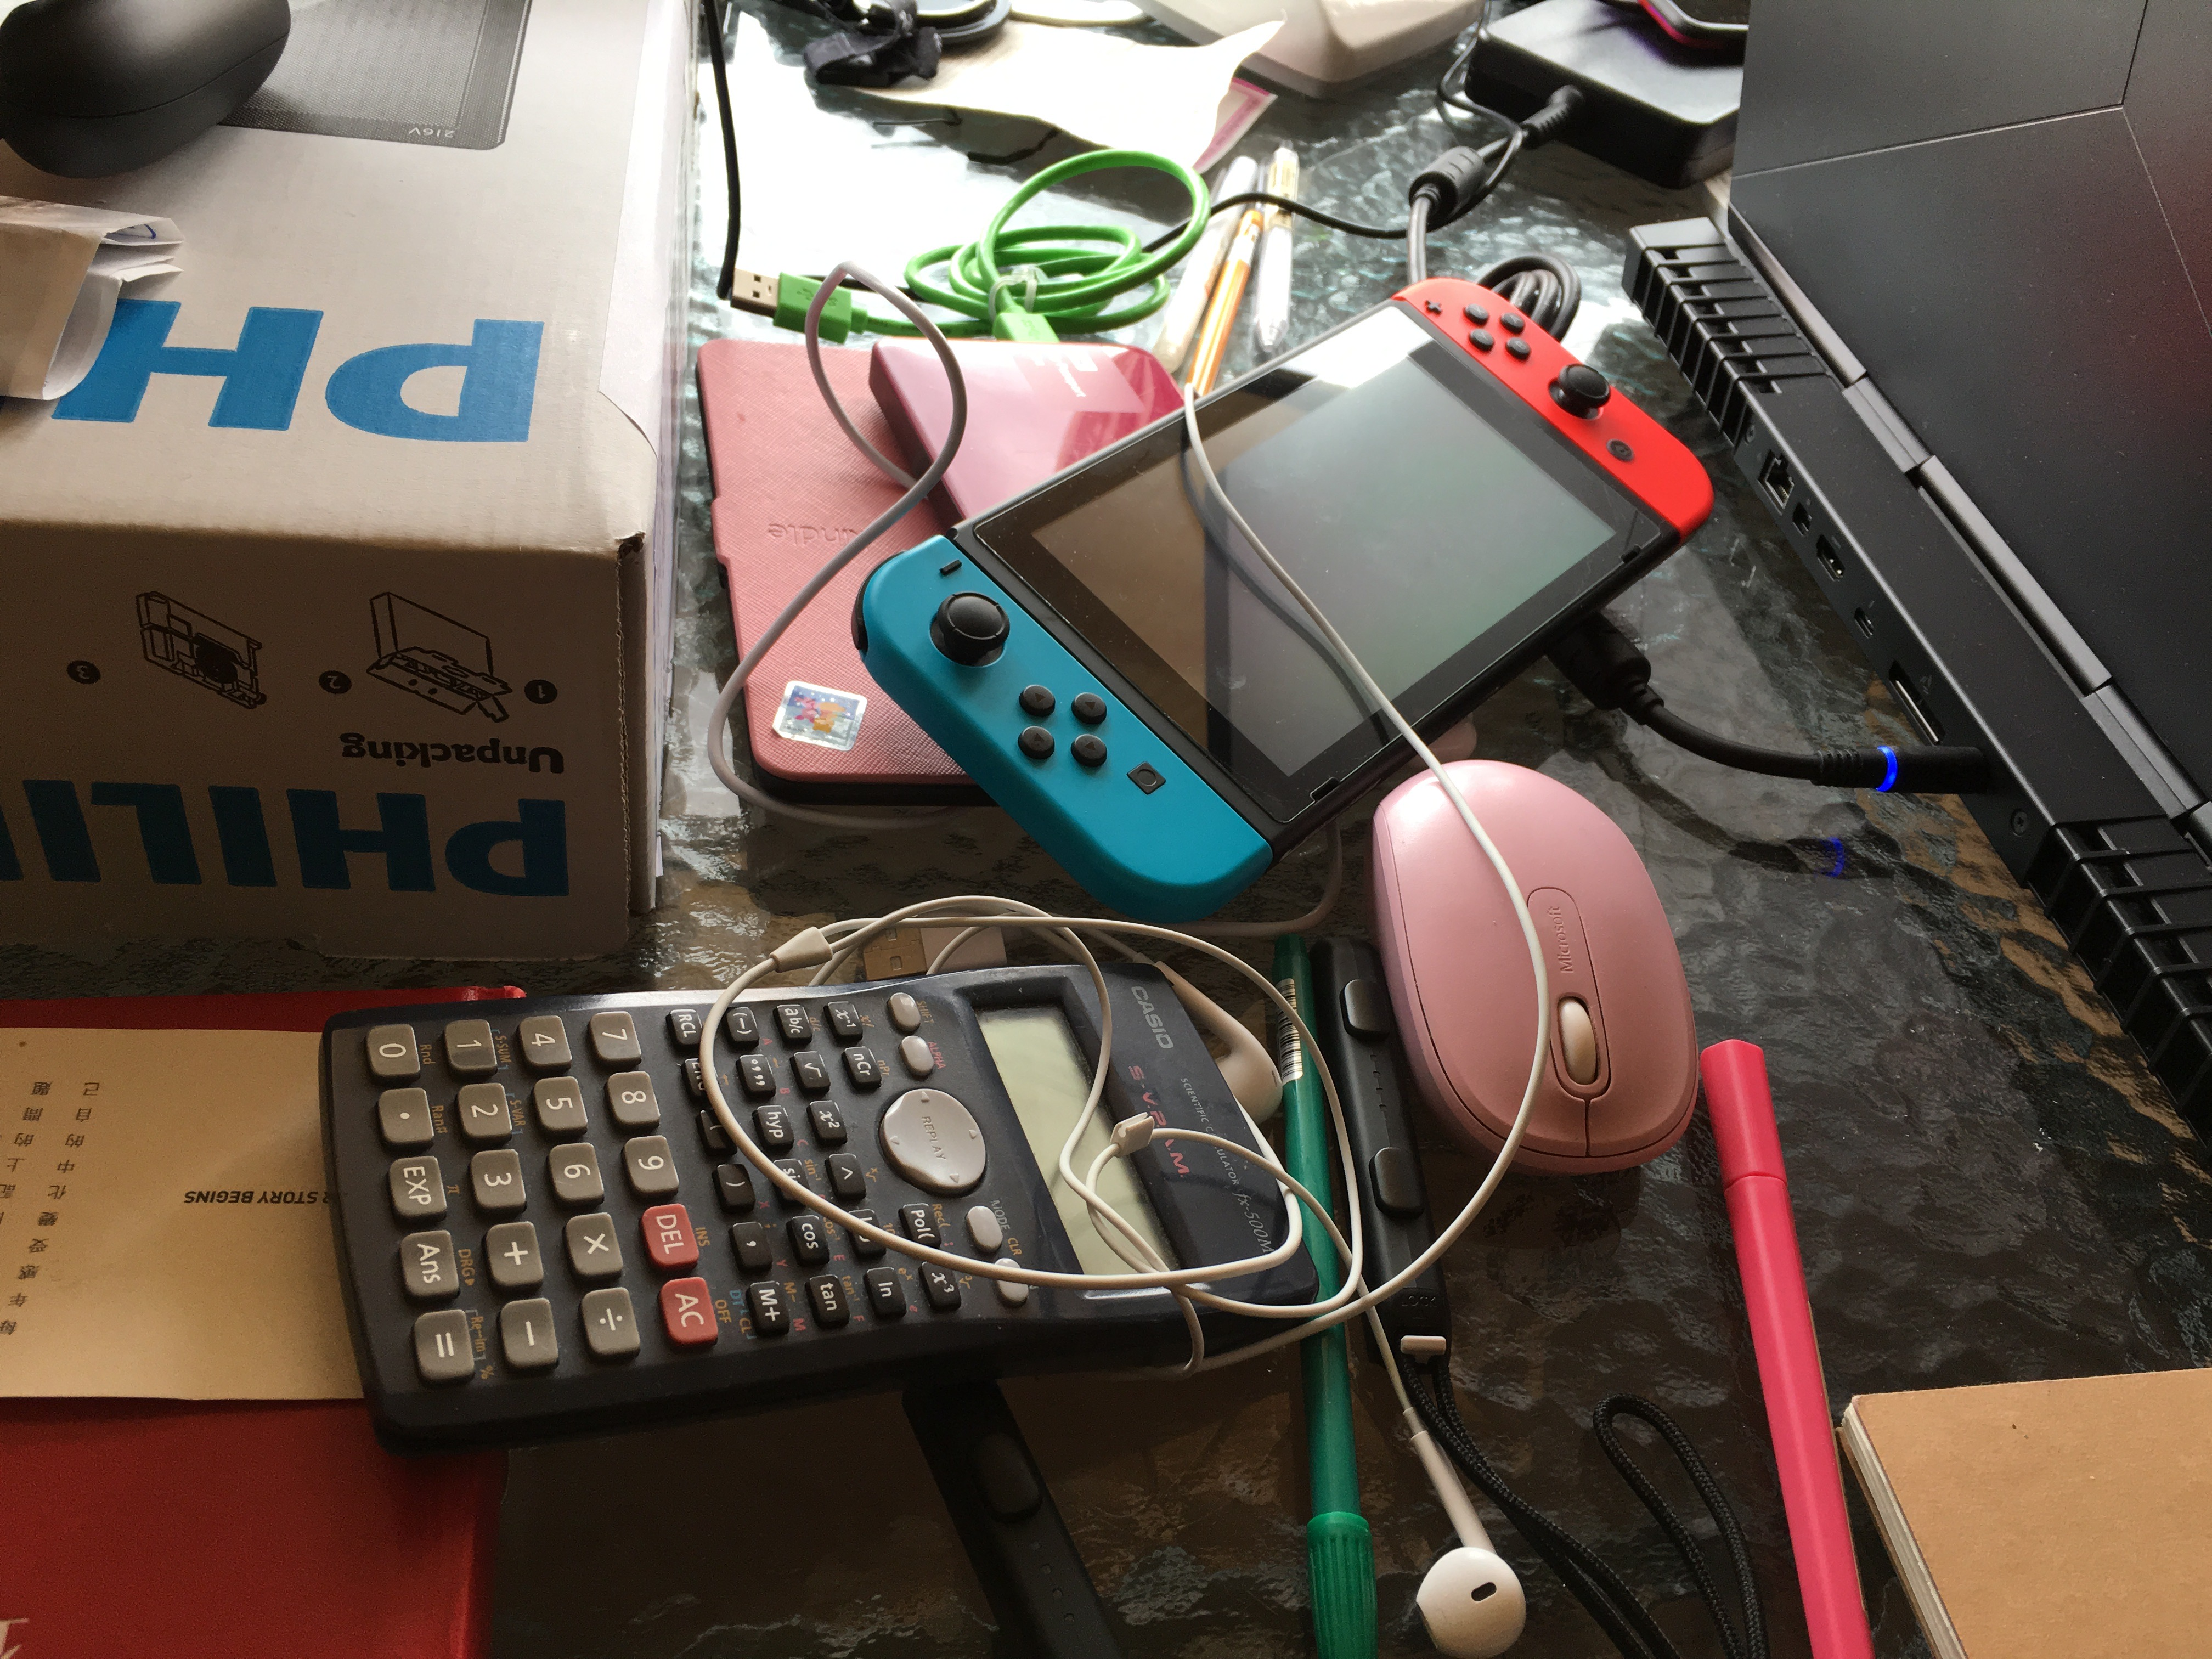Calculator: (307, 953, 1322, 1457)
NintendoSwitch: (846, 274, 1726, 936)
